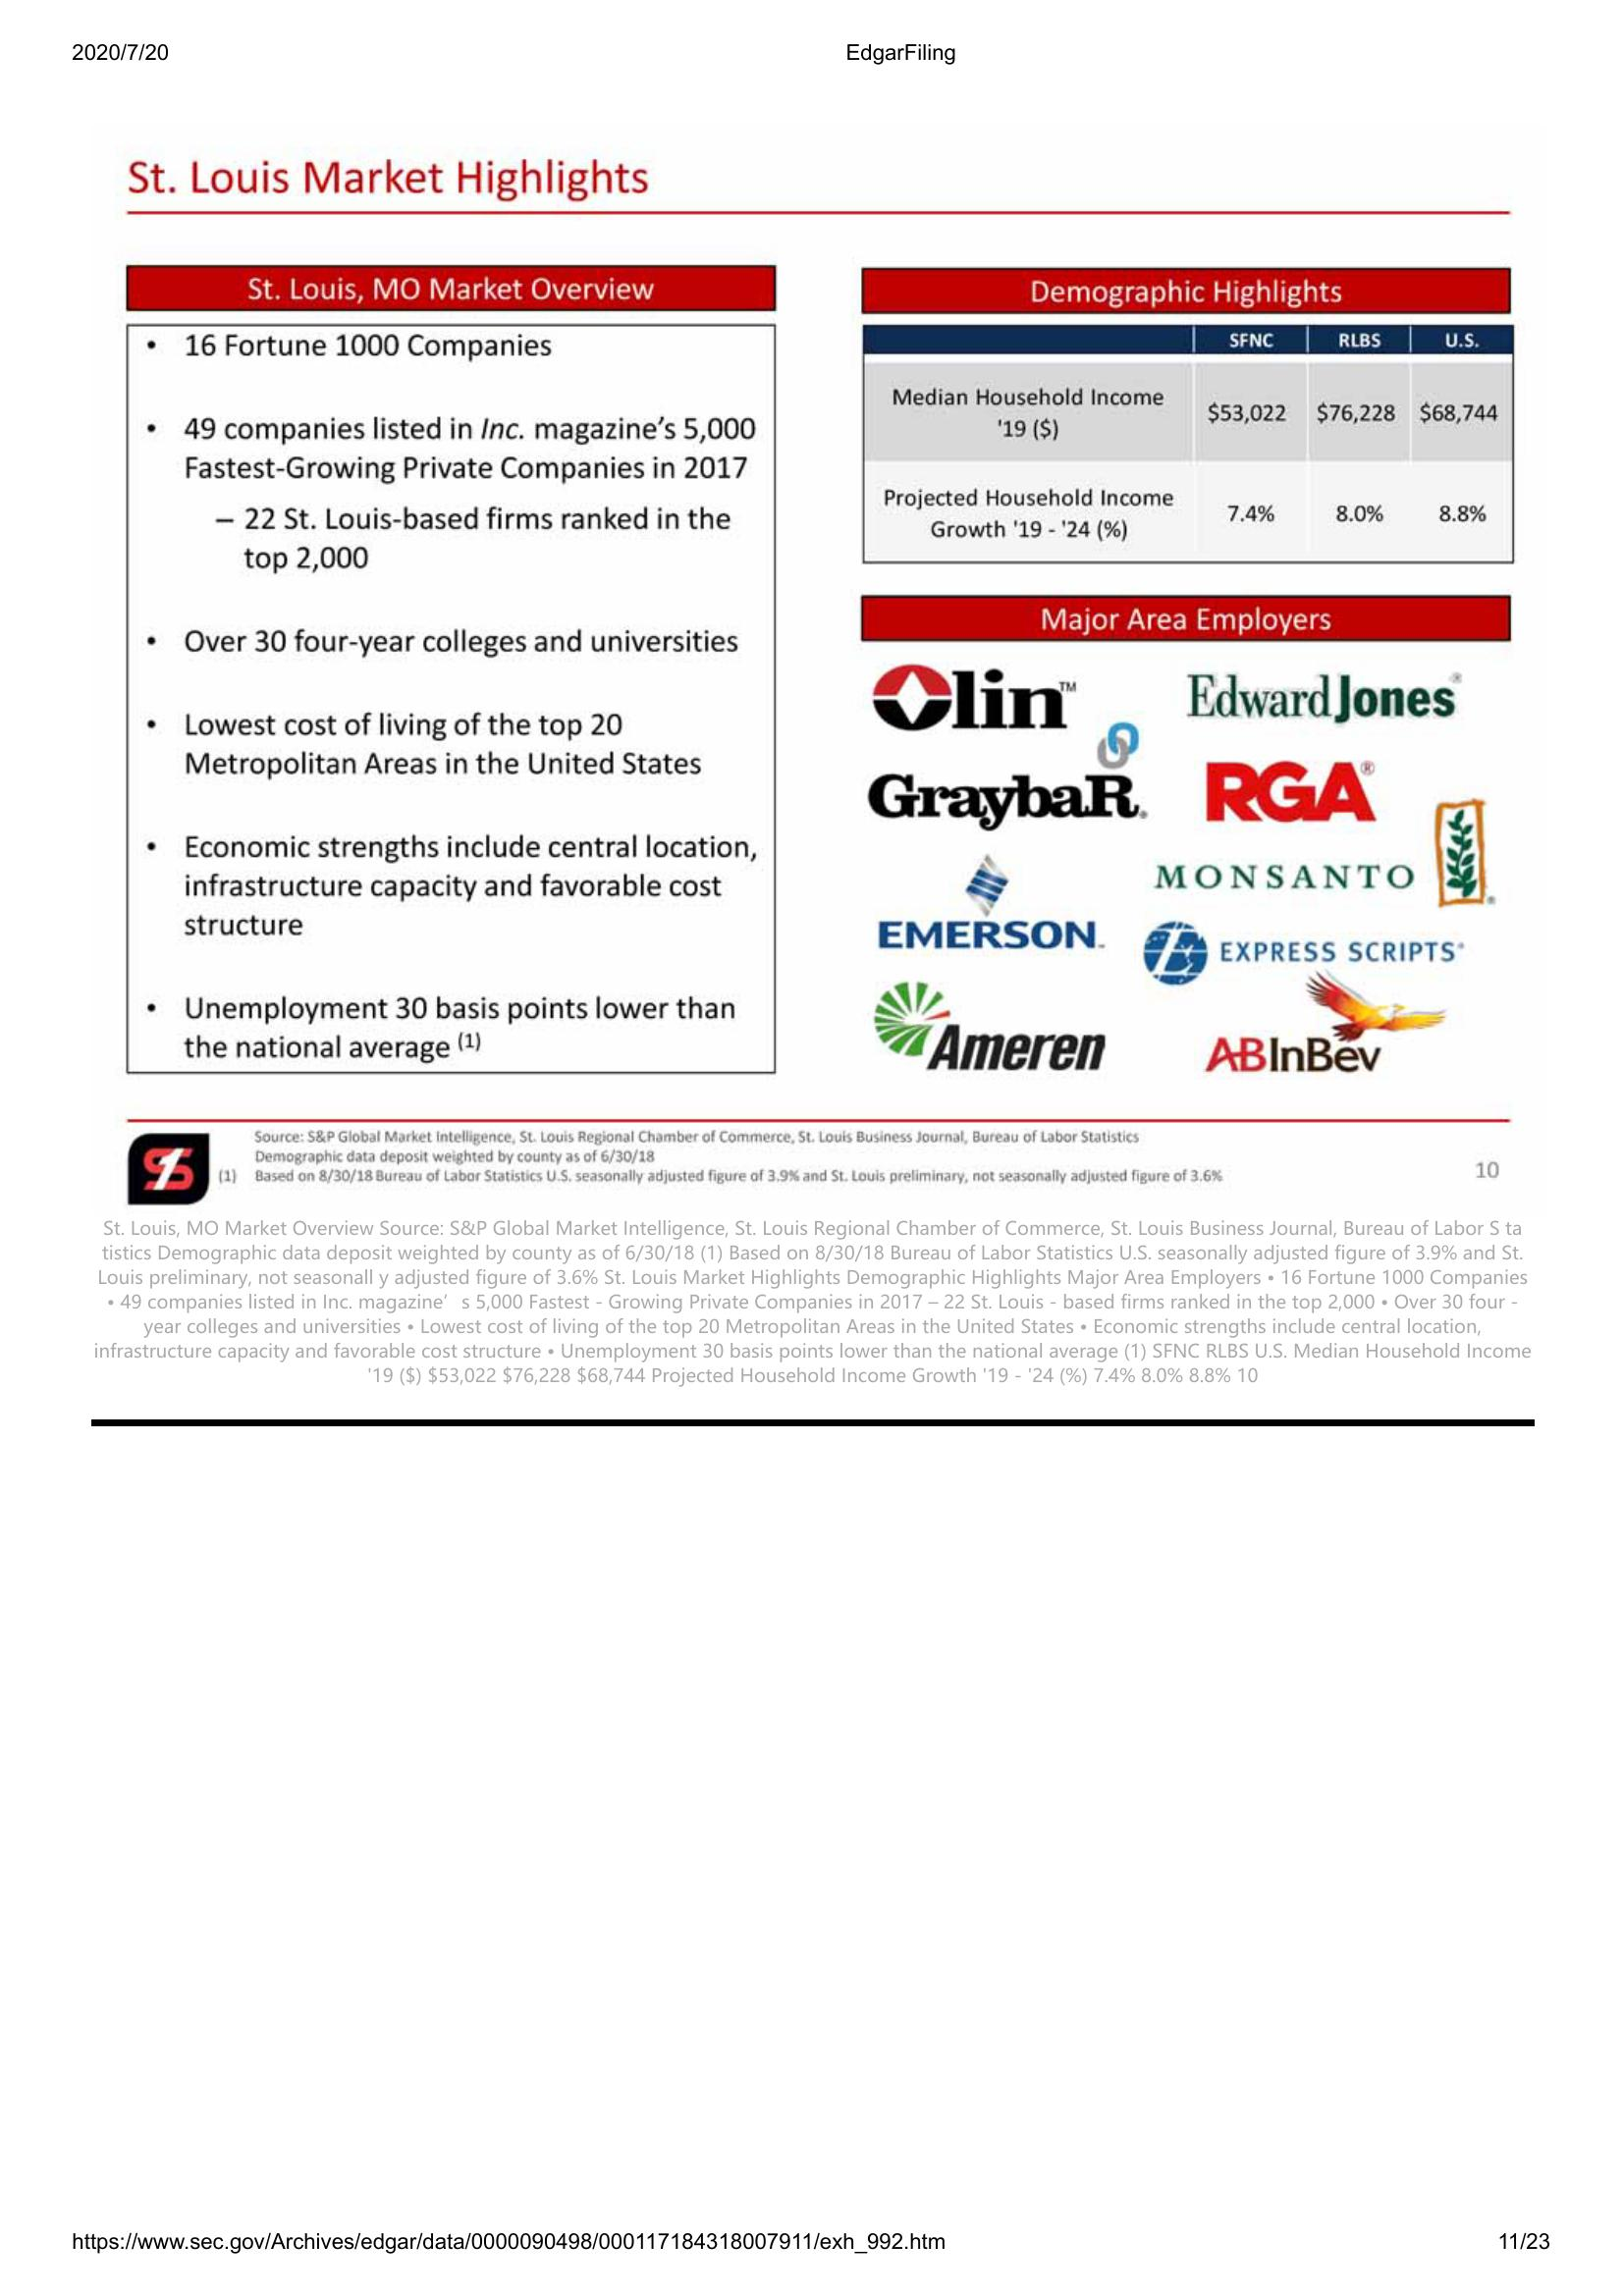table: (859, 319, 1516, 567)
